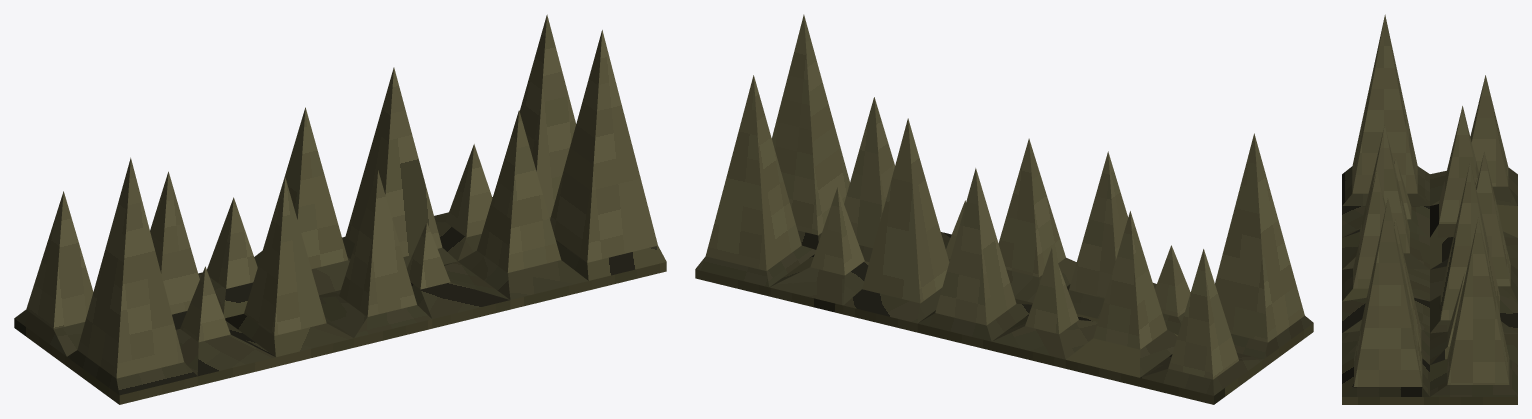
Rendered from marble_spikes_strip.glb.
3 views of the same model, side by side, from view 1: azimuth 30°, elevation 25°; view 2: azimuth 150°, elevation 25°; view 3: azimuth 270°, elevation 25° (orthographic). The views are drawn at different scales.
Parts seen in each view (by area): view 1: MarbleSpikes; view 2: MarbleSpikes; view 3: MarbleSpikes.
Part boxes in pixels (<box>): MarbleSpikes: <box>14,14,666,404</box>; MarbleSpikes: <box>695,14,1313,404</box>; MarbleSpikes: <box>1342,14,1517,404</box>.
Size of what is drawn, in the model's own units: 6 by 2.42 by 2.
1 material, 1 textured.
